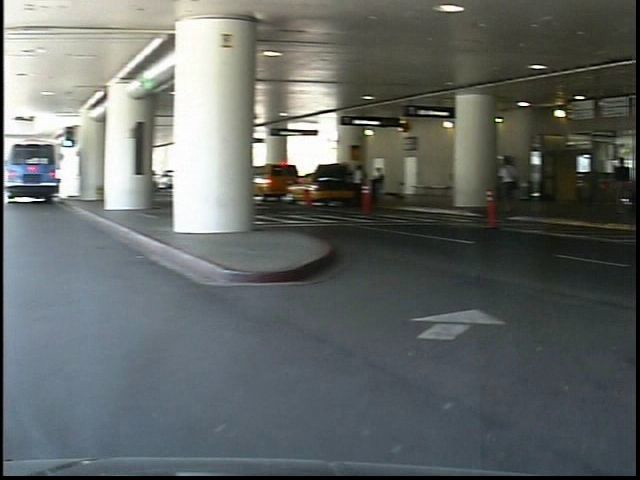person: (502, 153, 529, 212)
